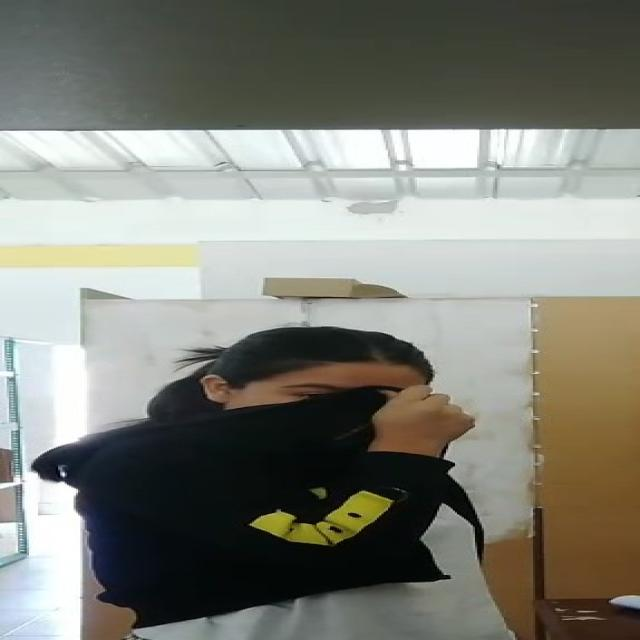8_ropa_rostro: (121, 379, 470, 505)
